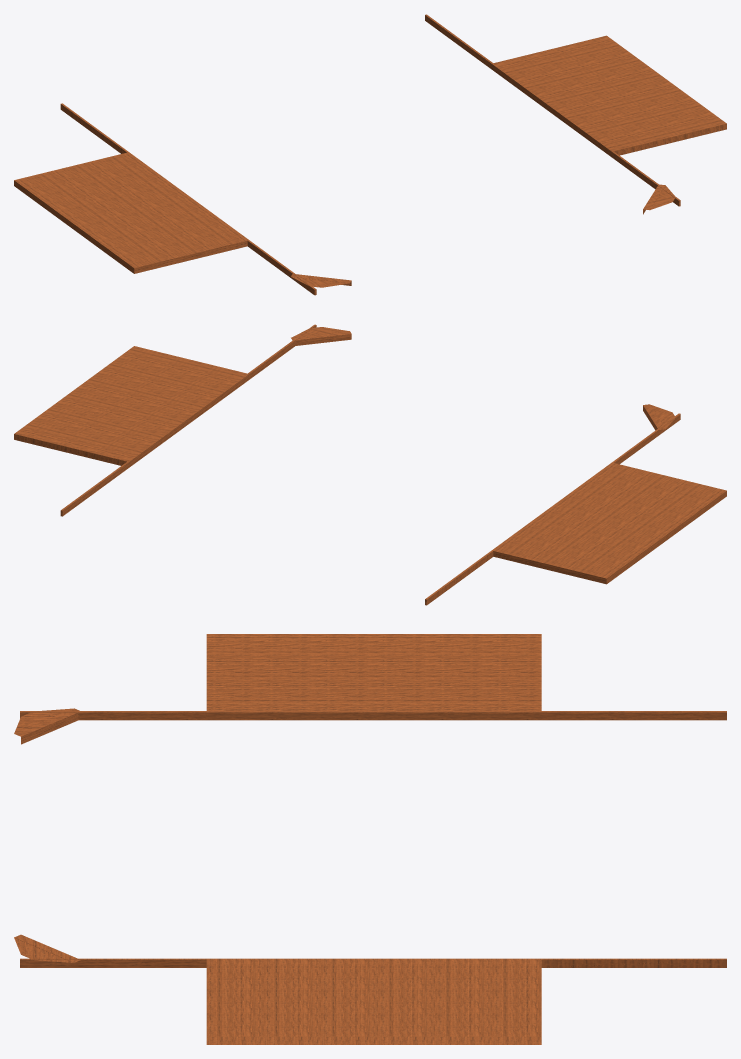
File: SM_Wood_Ground.fbx
3 renders of one model, top to bottom at view 1: azimuth 30°, elevation 25°; view 2: azimuth 150°, elevation 25°; view 3: azimuth 270°, elevation 25°, orthographic. The views are drawn at different scales.
Visible parts, largest first — view 1: SM_Wood_Ground_LOD0; view 2: SM_Wood_Ground_LOD0; view 3: SM_Wood_Ground_LOD0.
Boxes of the visible parts, x1,y1,x2,y2 form: SM_Wood_Ground_LOD0: (14, 14, 726, 295); SM_Wood_Ground_LOD0: (14, 324, 726, 605); SM_Wood_Ground_LOD0: (14, 634, 726, 1044).
Size of the model in its own units: 3260 by 2440 by 30.48.
